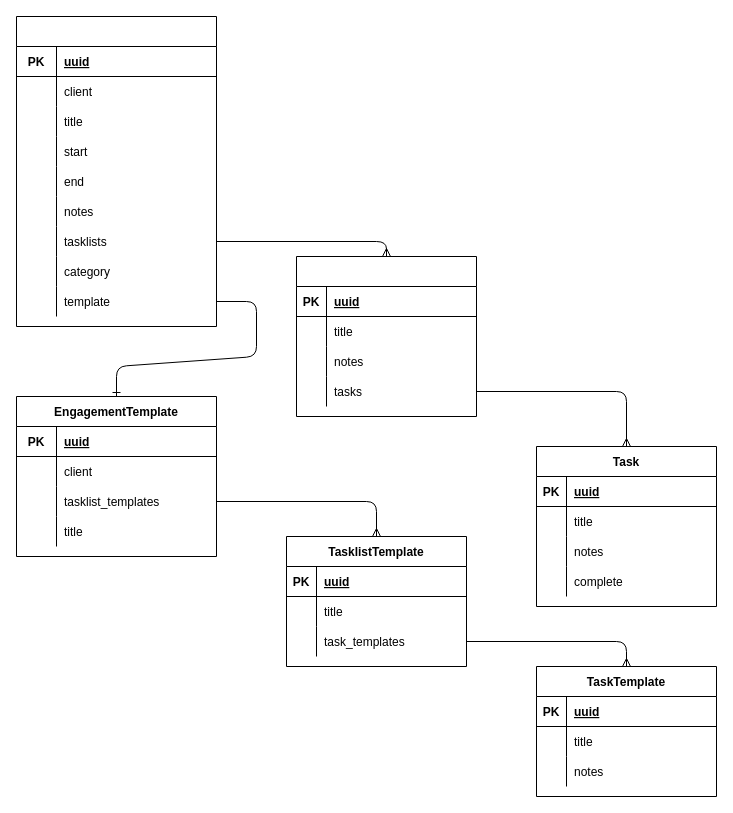
This 733x813 diagram has some shape labels left out. Here are the shapes that lost their labels. From the top down, the box of each, then its label:
(16, 16, 216, 326): Engagement
(296, 256, 476, 416): Tasklist
